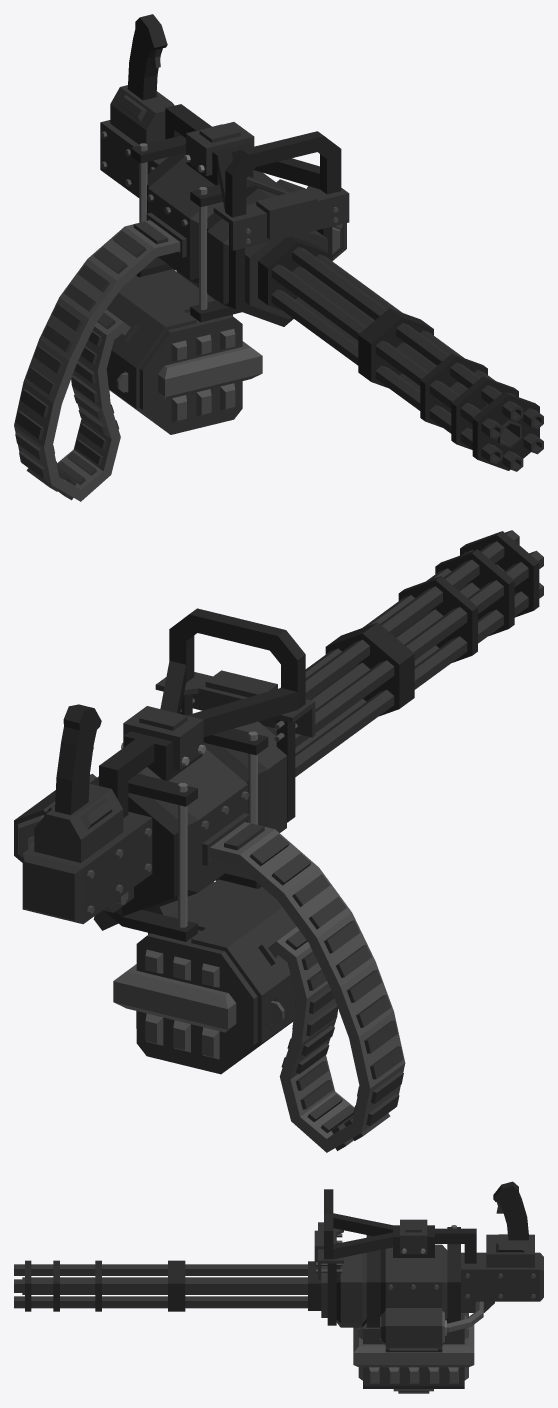
The model's file is Minigun.fbx.
3 renders of one model, top to bottom at view 1: azimuth 30°, elevation 25°; view 2: azimuth 150°, elevation 25°; view 3: azimuth 270°, elevation 25°, orthographic. The views are drawn at different scales.
Visible parts, largest first — view 1: Minigun_Part02, Minigun_Part01, Minigun_Part04, Minigun_Part03; view 2: Minigun_Part02, Minigun_Part04, Minigun_Part01, Minigun_Part03; view 3: Minigun_Part02, Minigun_Part01, Minigun_Part03.
Boxes of the visible parts, x1,y1,x2,y2 form: Minigun_Part02: [100, 14, 349, 326]; Minigun_Part01: [258, 236, 543, 471]; Minigun_Part04: [14, 220, 180, 501]; Minigun_Part03: [106, 269, 262, 434]; Minigun_Part02: [14, 608, 315, 941]; Minigun_Part04: [210, 822, 405, 1152]; Minigun_Part01: [264, 530, 543, 776]; Minigun_Part03: [113, 879, 296, 1074]; Minigun_Part02: [314, 1181, 543, 1352]; Minigun_Part01: [14, 1260, 321, 1311]; Minigun_Part03: [353, 1313, 474, 1388].
Bounding box in the file's own units: 18.43 × 22.61 × 41.99.
